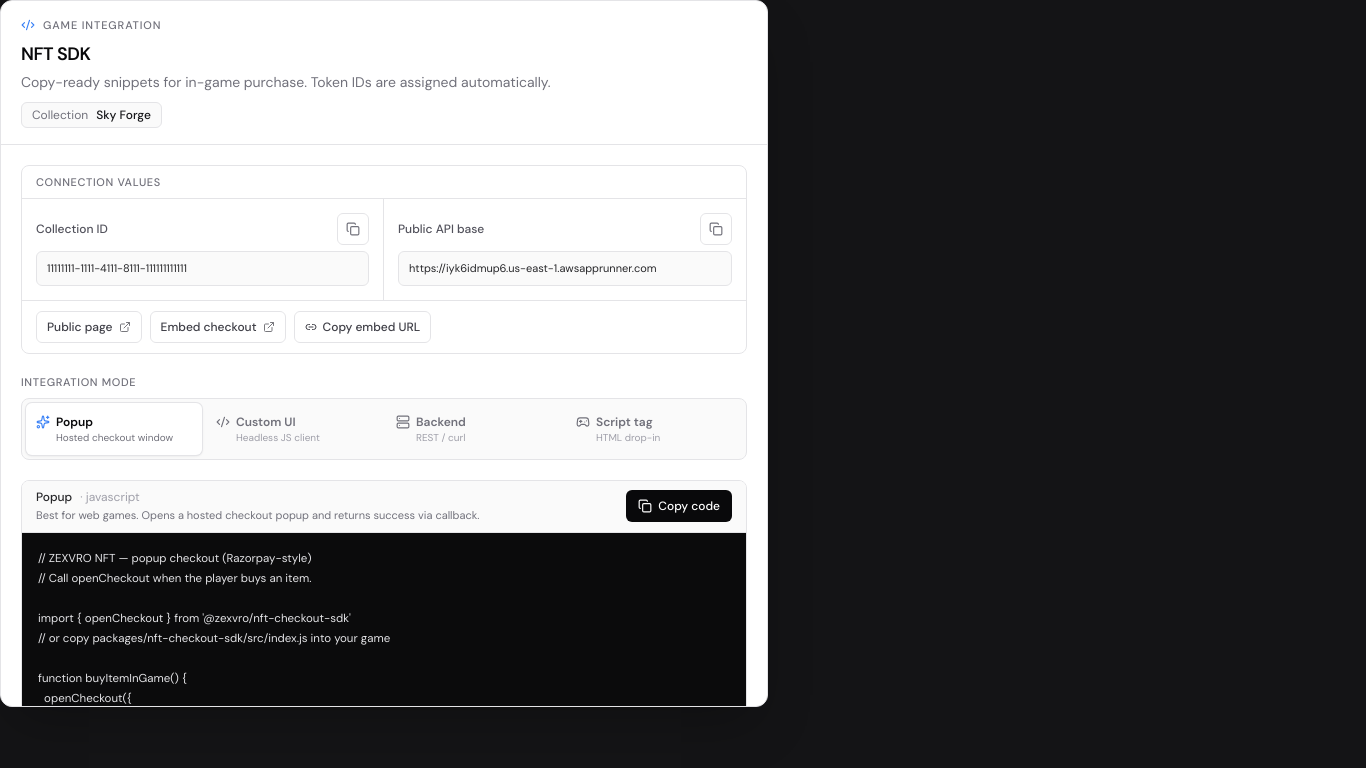
Scenario: NftSdkPanel › shows copy-ready popup SDK snippet with collection id
Expected: the heading "NFT SDK" is shown, [21, 42, 90, 66]
Expected: the text "Sky Forge" is shown, [96, 106, 151, 122]
Click the button "Copy code". click: (679, 506)
box: [626, 490, 732, 522]
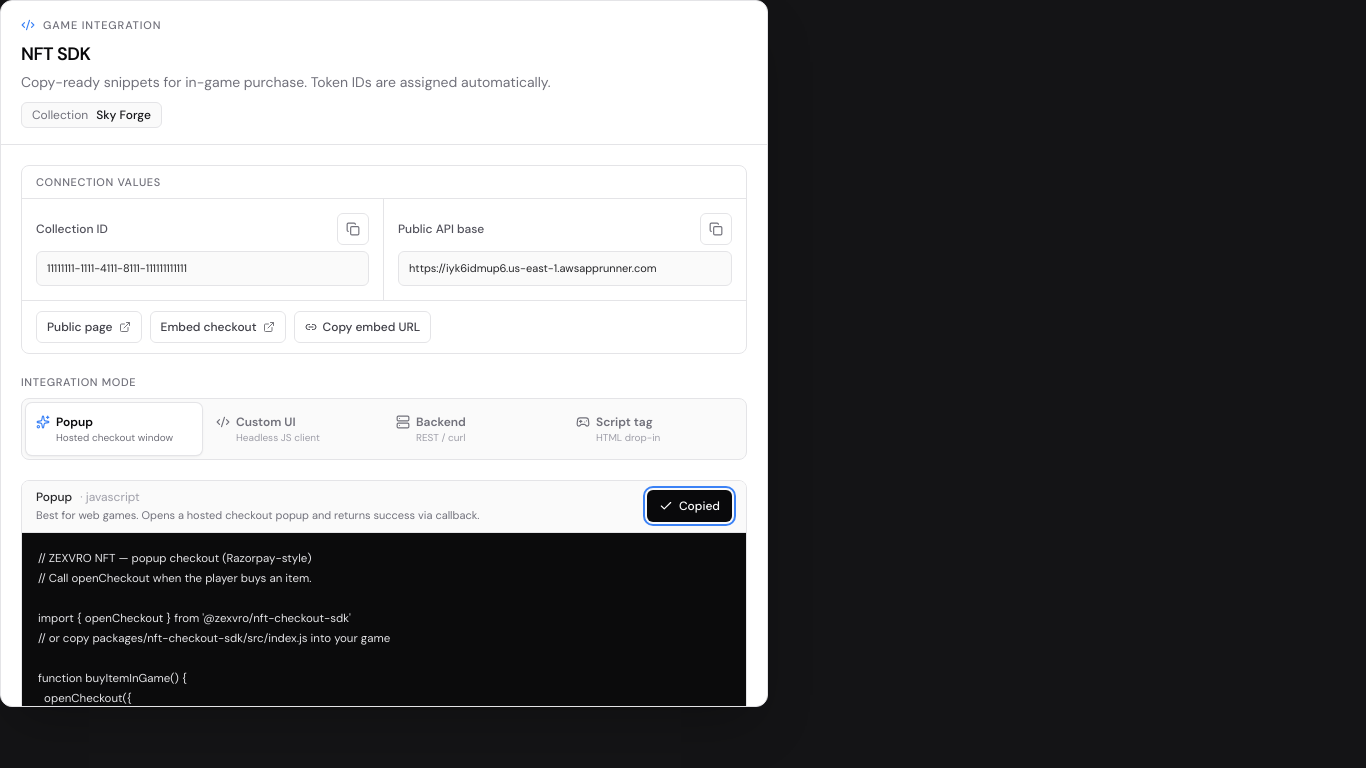
Expected: the button "Copied" is shown, [647, 490, 732, 522]
